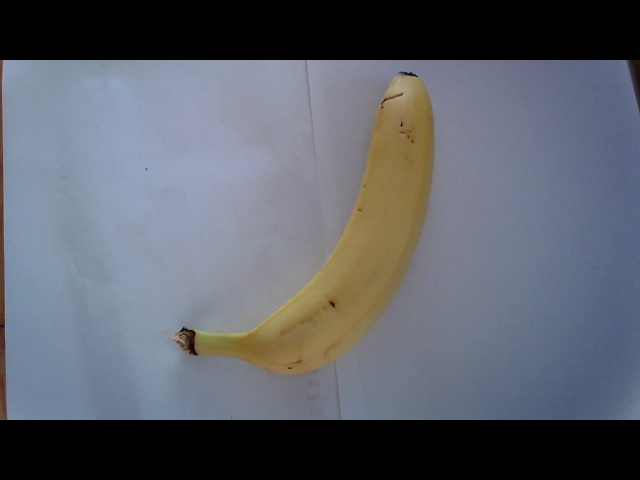banana: (206, 73, 432, 376)
